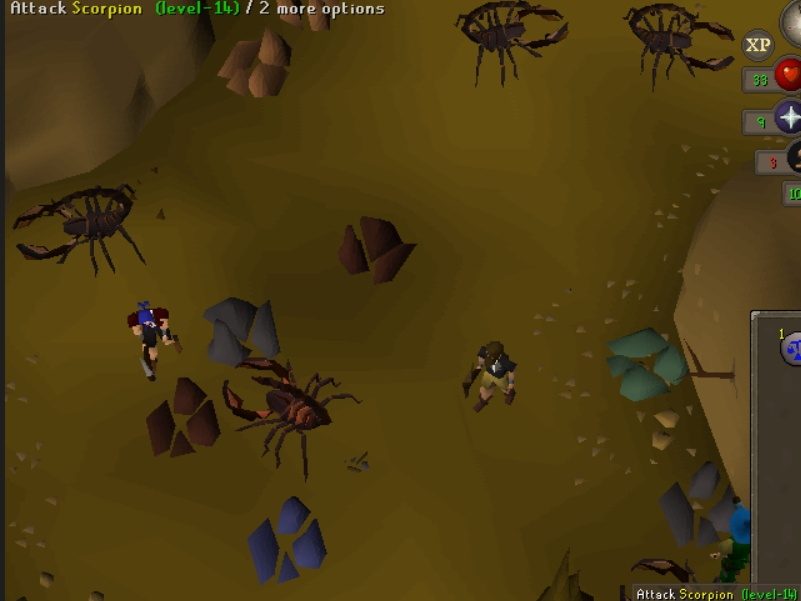adamant: (600, 315, 693, 415)
copper: (217, 25, 298, 106)
iron: (141, 371, 225, 463), (333, 203, 417, 295)
mithril: (236, 481, 337, 594)
